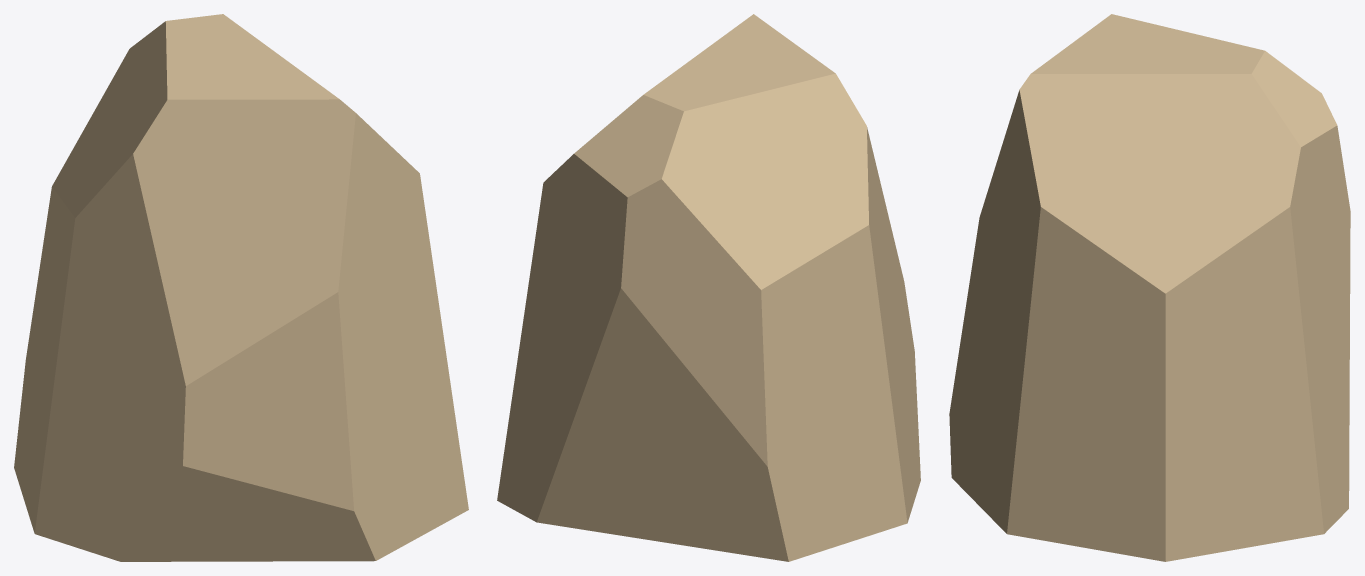
The model's file is roca7.glb.
3 views of the same model, side by side, from view 1: azimuth 30°, elevation 25°; view 2: azimuth 150°, elevation 25°; view 3: azimuth 270°, elevation 25° (orthographic). The views are drawn at different scales.
Parts seen in each view (by area): view 1: small_rock_05_Cylinder_004; view 2: small_rock_05_Cylinder_004; view 3: small_rock_05_Cylinder_004.
Boxes of the visible parts, box(x1,y1,x2,y2) form: small_rock_05_Cylinder_004: box(14, 14, 468, 561); small_rock_05_Cylinder_004: box(497, 14, 920, 561); small_rock_05_Cylinder_004: box(949, 14, 1350, 561).
Size of the model in its own units: 0.7904 by 0.7904 by 0.7068.
